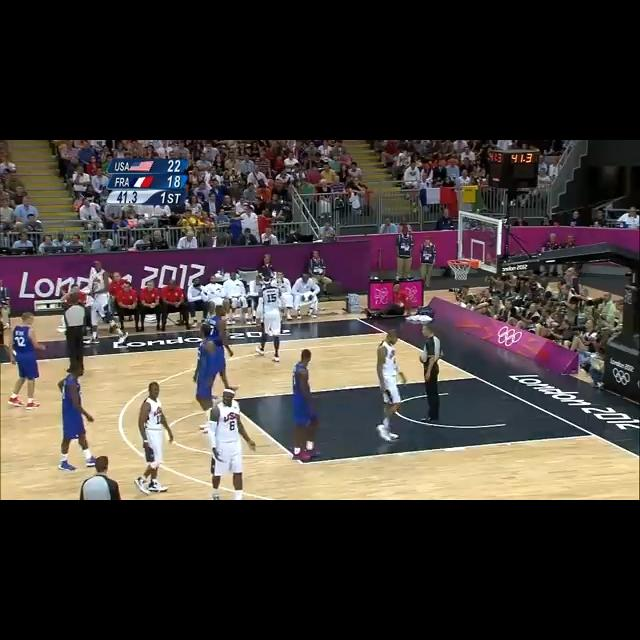hoop: (447, 262, 475, 282)
person: (286, 348, 320, 463), (5, 311, 42, 409), (85, 261, 109, 325), (136, 280, 165, 332), (15, 194, 40, 224), (618, 206, 640, 228), (13, 231, 35, 253), (176, 228, 198, 248), (92, 232, 114, 252), (38, 234, 58, 253), (68, 233, 84, 252)
